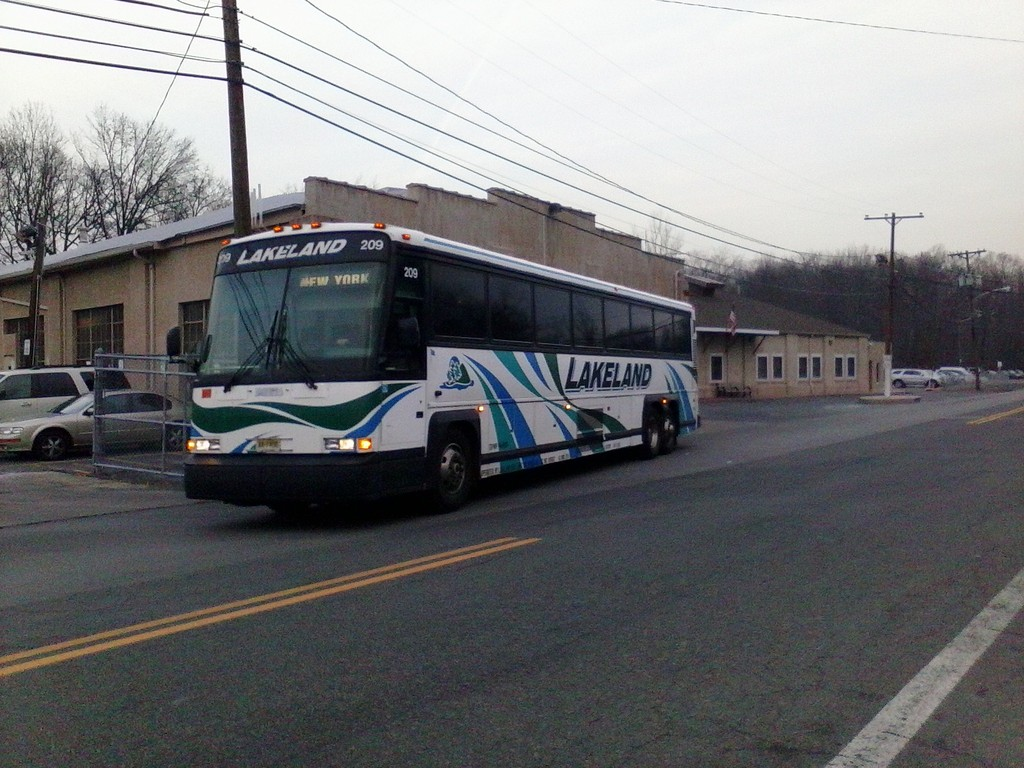Car: (0, 387, 191, 457), (0, 366, 126, 408), (889, 357, 1022, 390)
